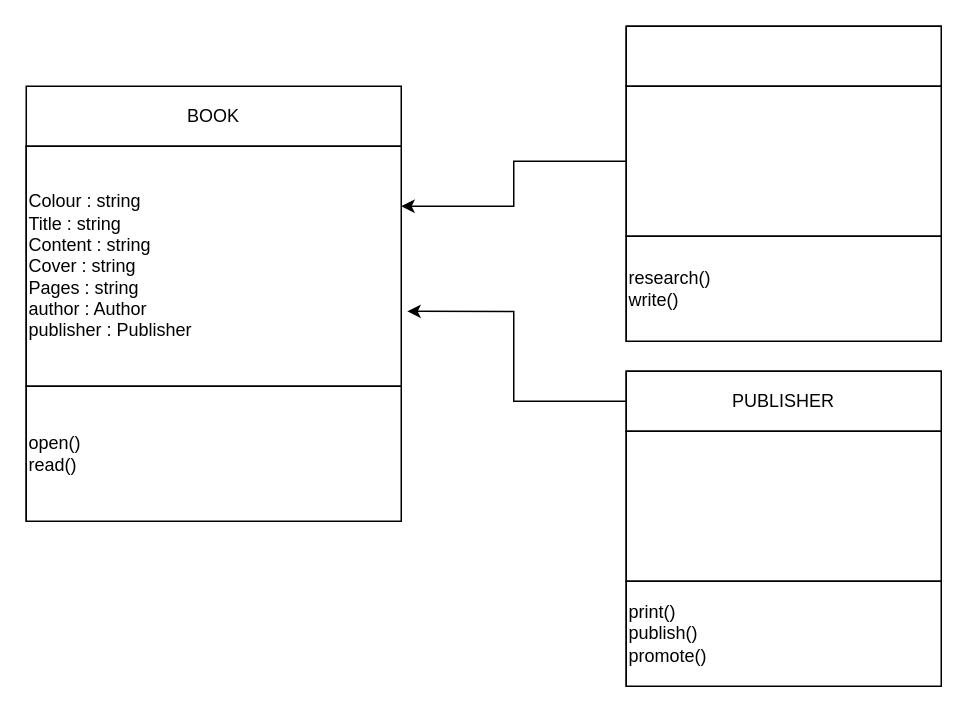
This 968x713 diagram has some shape labels left out. Each missing label, with the centre of its shape:
"AUTHOR" goes at [783,55].
"Printing_house : string Copy_edit : string Marketing : string" goes at [783,505].
"Search_engine:string Library: string create_content: string" goes at [783,160].
